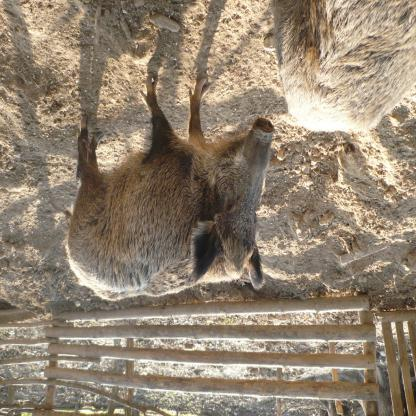boar: (63, 71, 276, 303), (267, 1, 416, 135)
